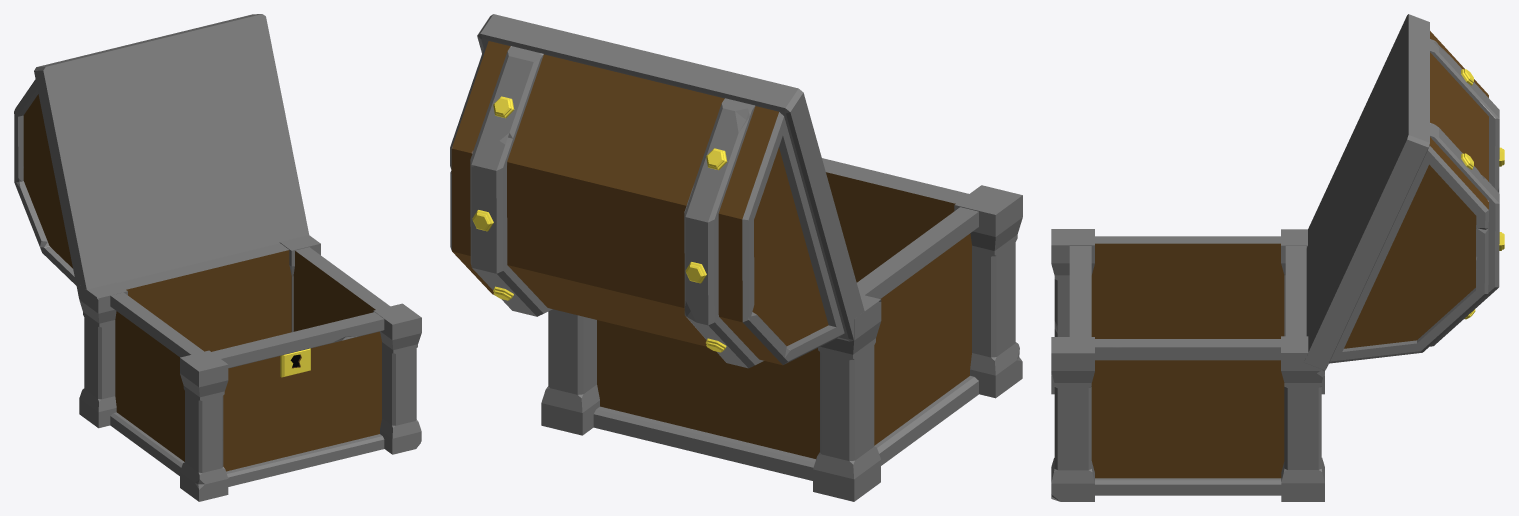
File: ChestOpen.obj
3 views of the same model, side by side, from view 1: azimuth 30°, elevation 25°; view 2: azimuth 150°, elevation 25°; view 3: azimuth 270°, elevation 25° (orthographic). The views are drawn at different scales.
Visible parts, largest first — view 1: Cube.002, Cylinder.002; view 2: Cylinder.002, Cube.002; view 3: Cube.002, Cylinder.002.
Part boxes in pixels (x1,y1,x2,y2): Cube.002: (79,235,421,501); Cylinder.002: (14,14,309,299); Cylinder.002: (450,14,864,368); Cube.002: (541,158,1022,501); Cube.002: (1051,229,1324,501); Cylinder.002: (1304,14,1504,371).
Bounding box in the file's own units: 0.8619 × 1.18 × 1.33.
